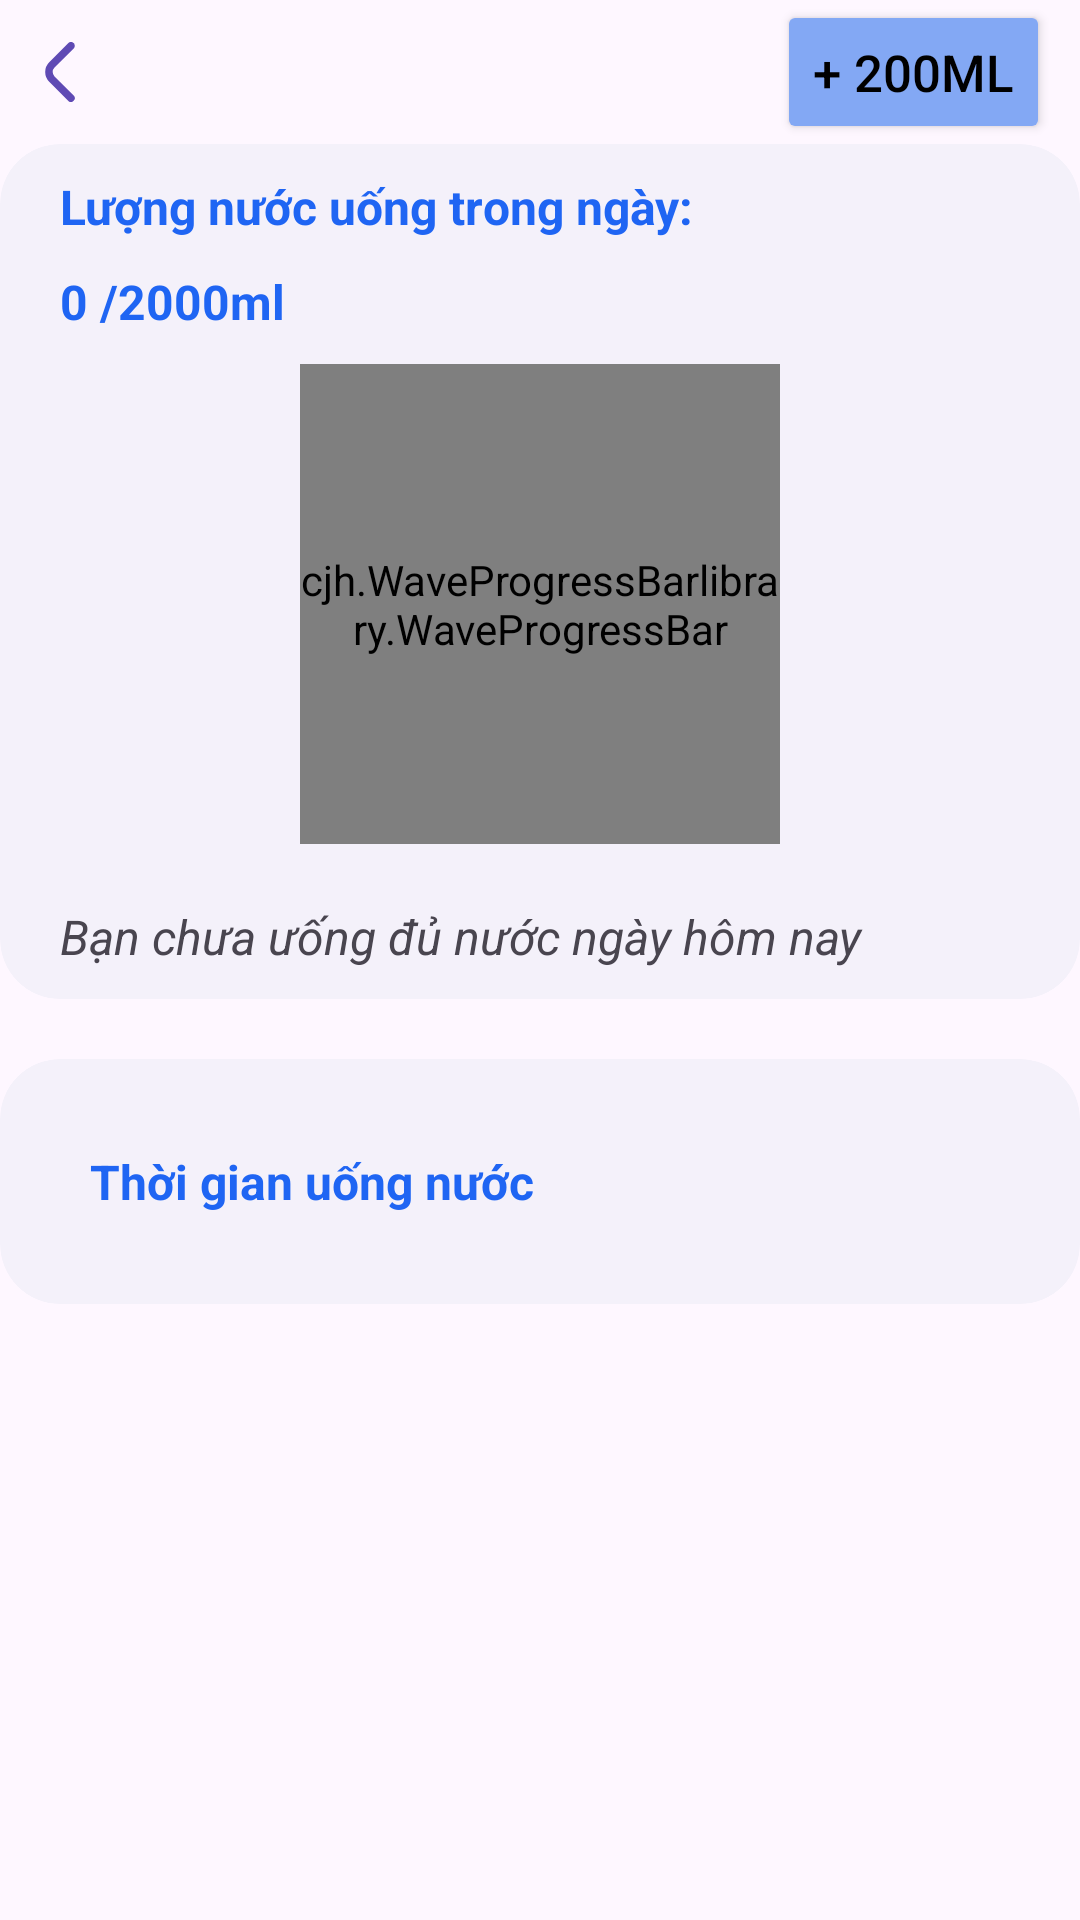

Icons on this 1080w x 1920h Android screen, each with the point to tap as [x,y]:
back: [60,72]
